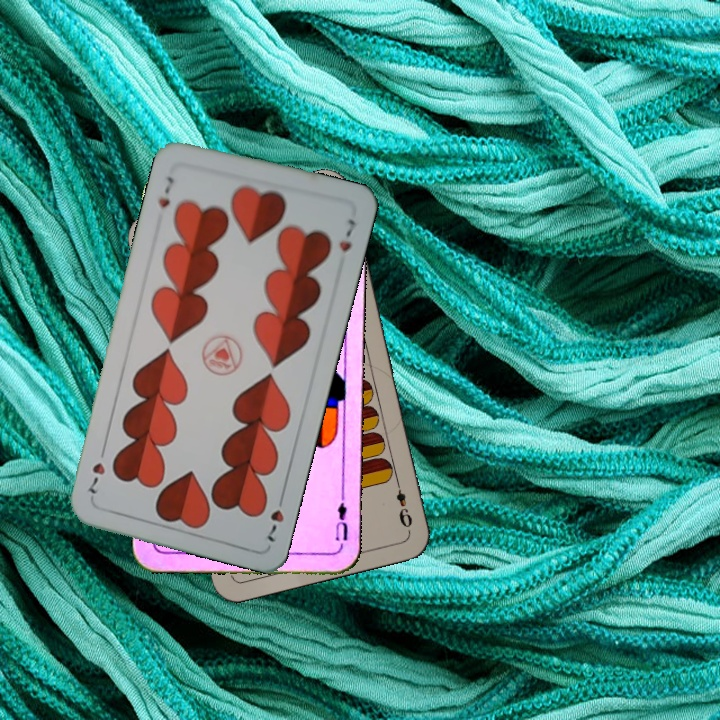E9: (391, 475, 415, 533)
EU: (331, 490, 350, 549)
H7: (262, 489, 287, 545), (154, 172, 176, 211)
